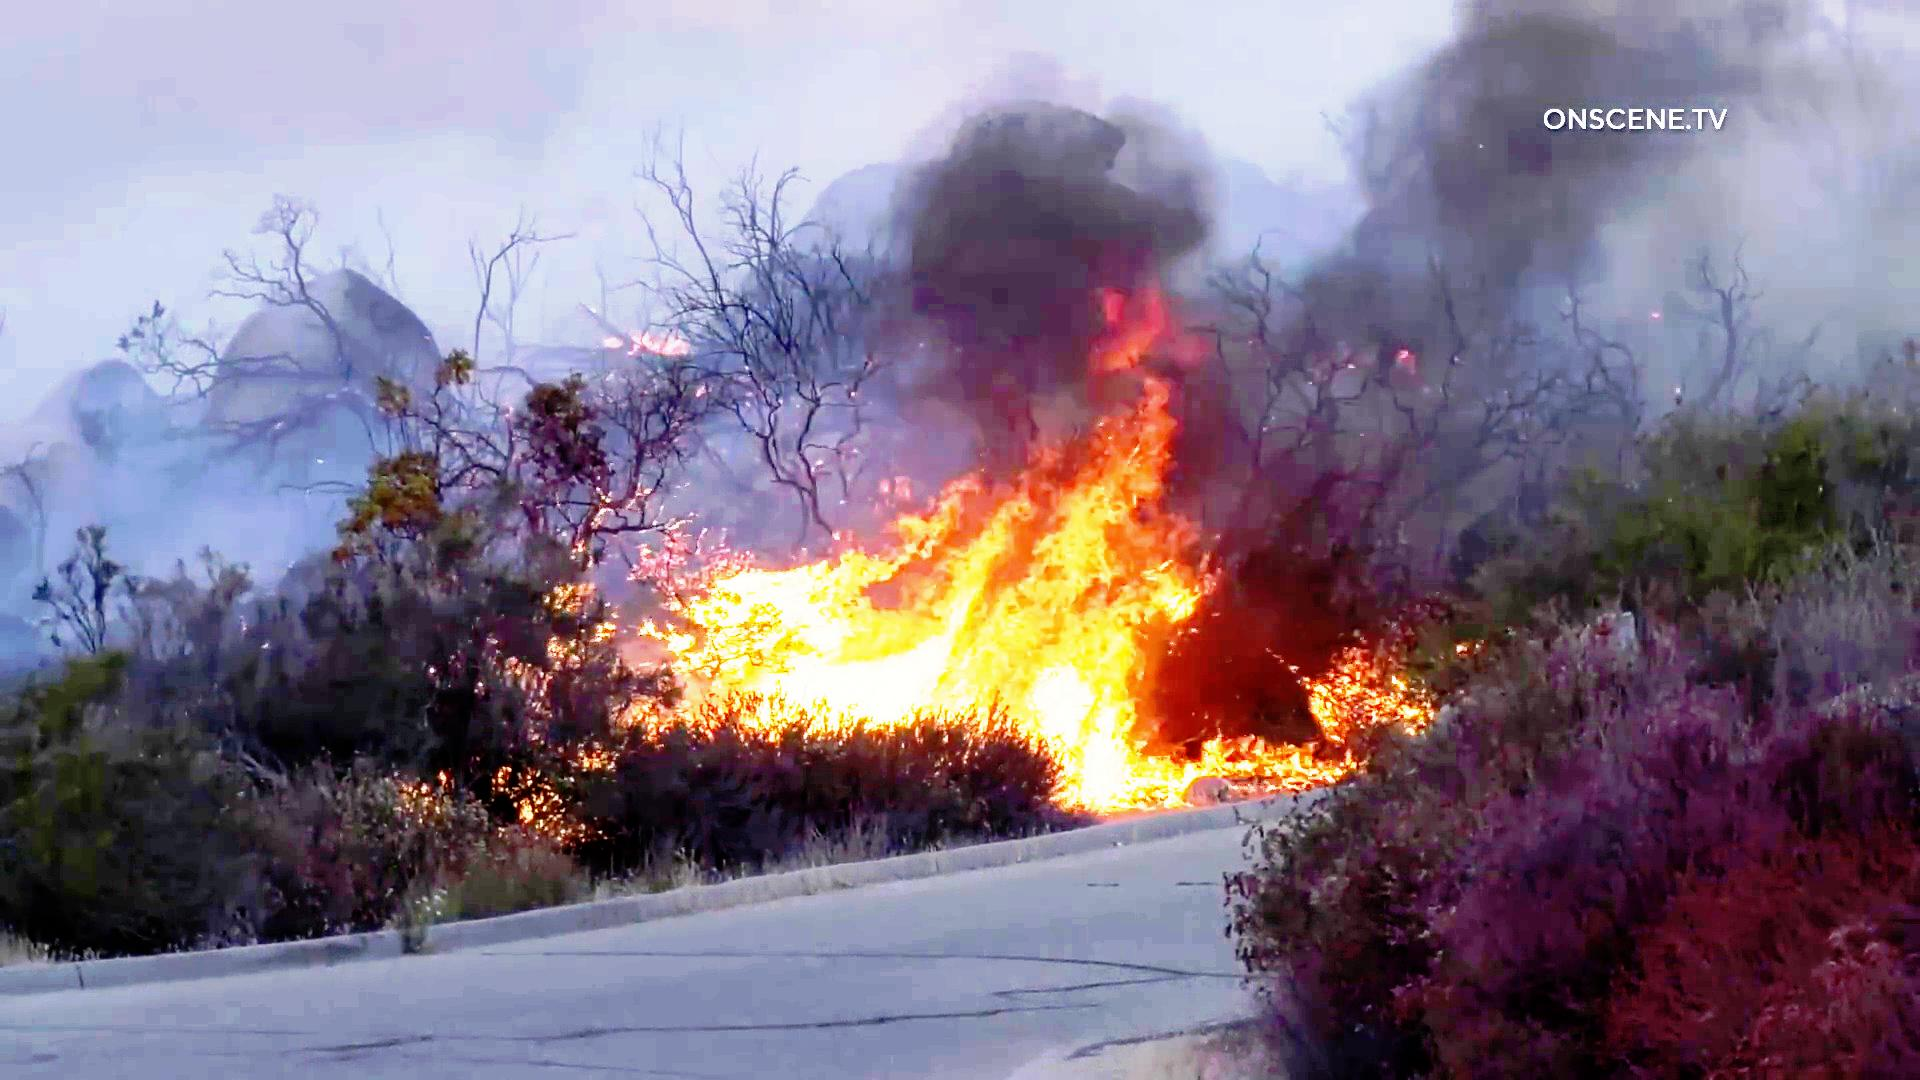fire: (667, 398, 1196, 723)
